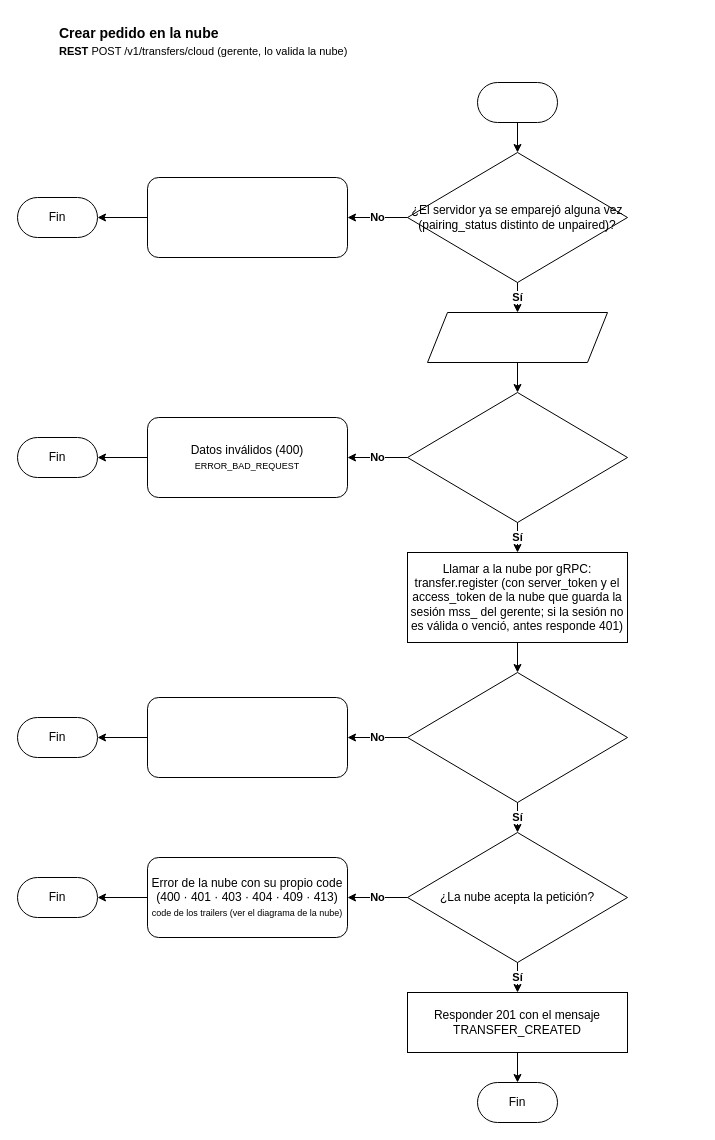
This 715x1140 diagram has some shape labels left out. Each missing label, with the box of its shape:
Inicio: (476, 82, 558, 122)
La nube no responde (503) ERROR_CLOUD_UNAVAILABLE · ERROR_SERVER_UNLINKED: (146, 696, 348, 778)
Recibir datos: (426, 312, 608, 362)
Servidor sin emparejar (409) ERROR_SERVER_NOT_PAIRED: (146, 176, 348, 258)
¿La nube responde antes de 10 s?: (406, 672, 628, 802)
¿Los datos son válidos?: (406, 392, 628, 522)
